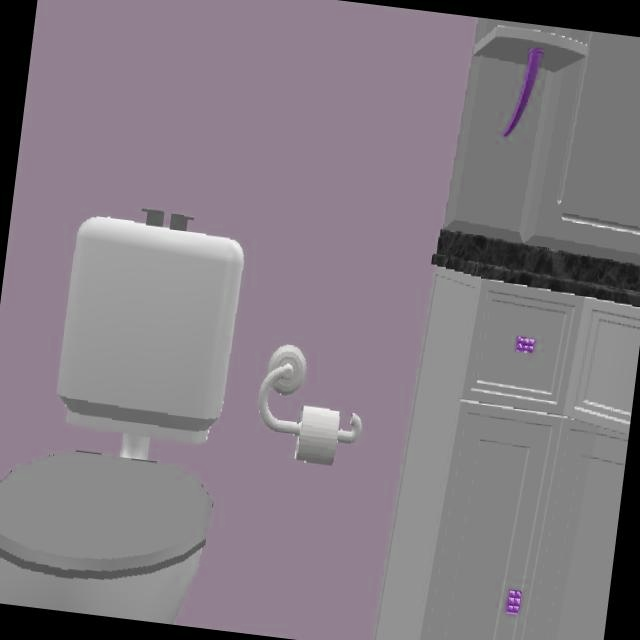cabinet: (375, 17, 640, 640)
toilet: (0, 207, 244, 624)
